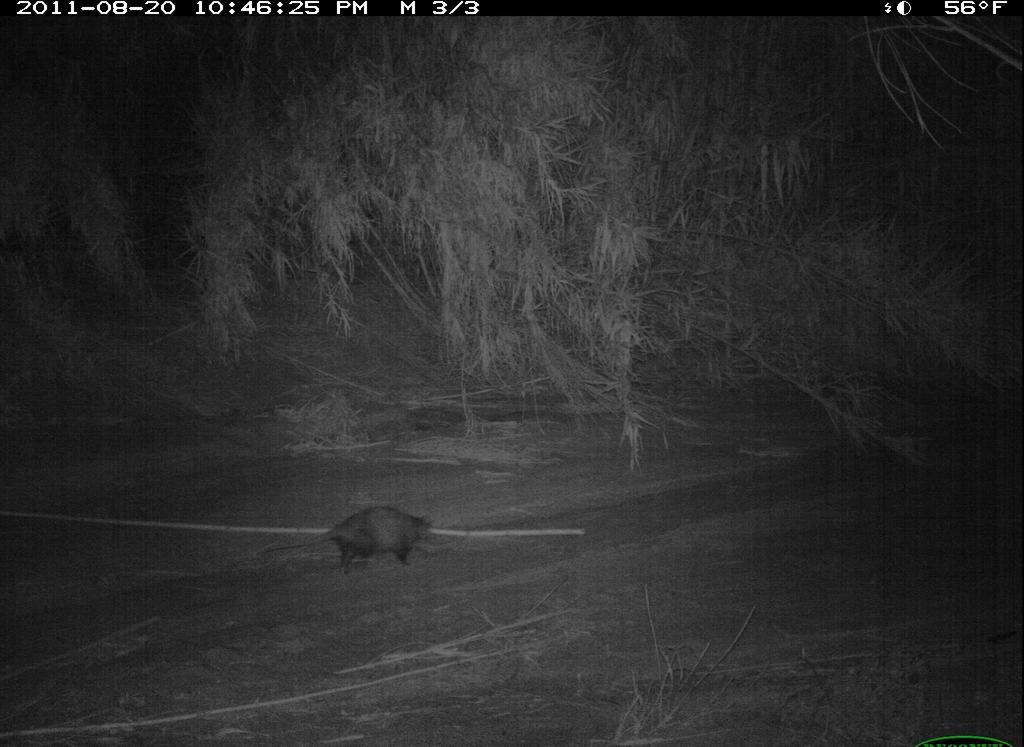opossum: (242, 500, 453, 581)
